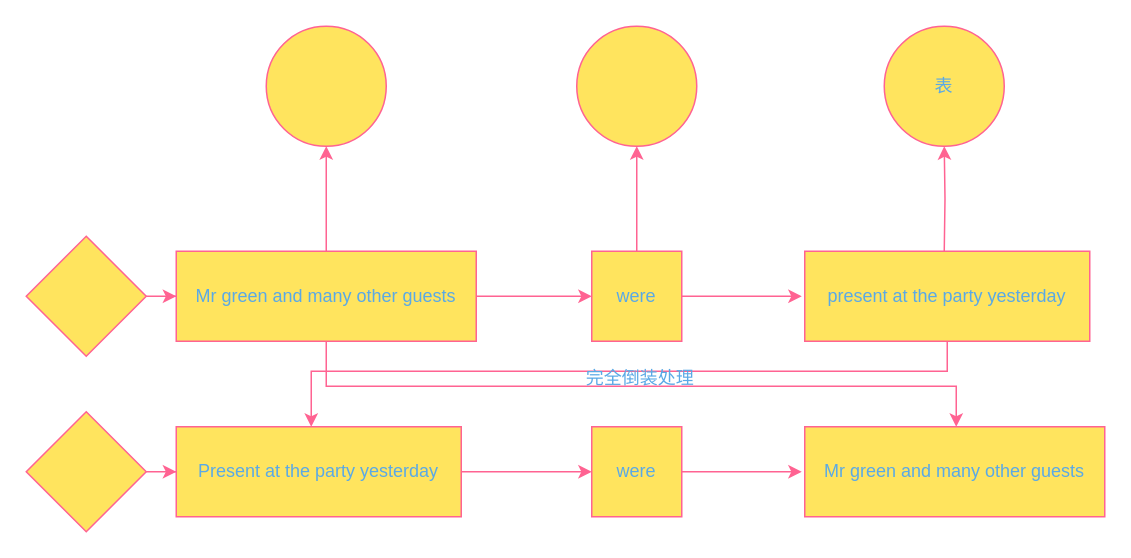
Image size: 1131x558. Some labels were removed from this diagram. The centre of each missing label's shape, as x and y in pixels:
"主语" belongs at pixel 325 85.
"倒装" belongs at pixel 85 471.
"正常语序" belongs at pixel 85 295.
"系动词/谓语" belongs at pixel 636 85.
